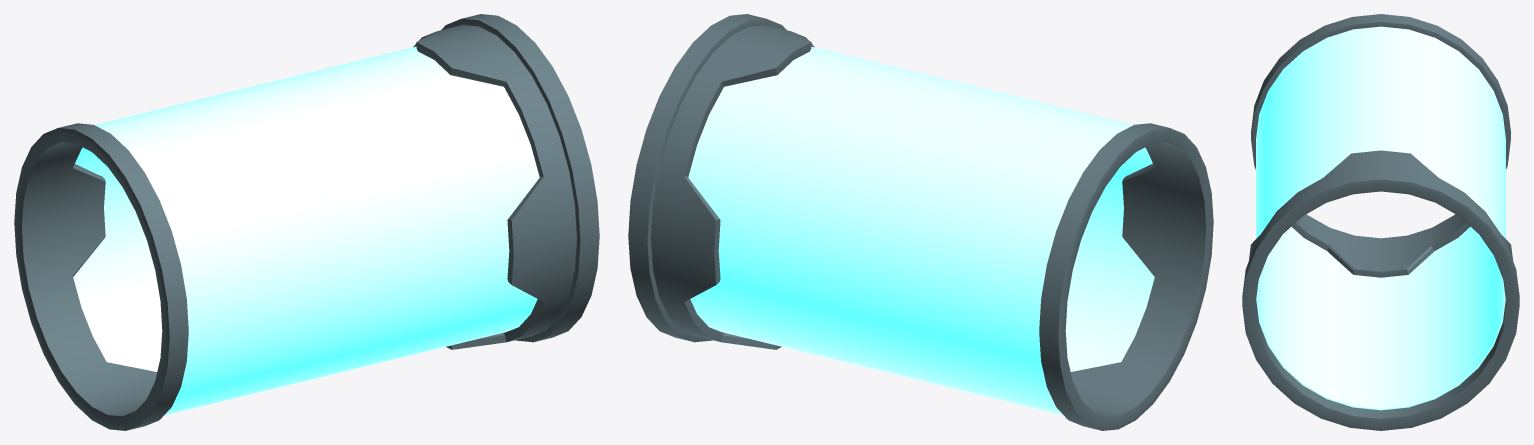
File: slug_shell.glb
3 views of the same model, side by side, from view 1: azimuth 30°, elevation 25°; view 2: azimuth 150°, elevation 25°; view 3: azimuth 270°, elevation 25° (orthographic). The views are drawn at different scales.
Visible parts, largest first — view 1: Slug Shell_3; view 2: Slug Shell_3; view 3: Slug Shell_3.
Part boxes in pixels (left/top/right/bottom): Slug Shell_3: left=14, top=14, right=599, bottom=430; Slug Shell_3: left=628, top=14, right=1213, bottom=430; Slug Shell_3: left=1242, top=14, right=1519, bottom=430.
Size of the model in its own units: 0.9875 by 0.6669 by 0.6669.
